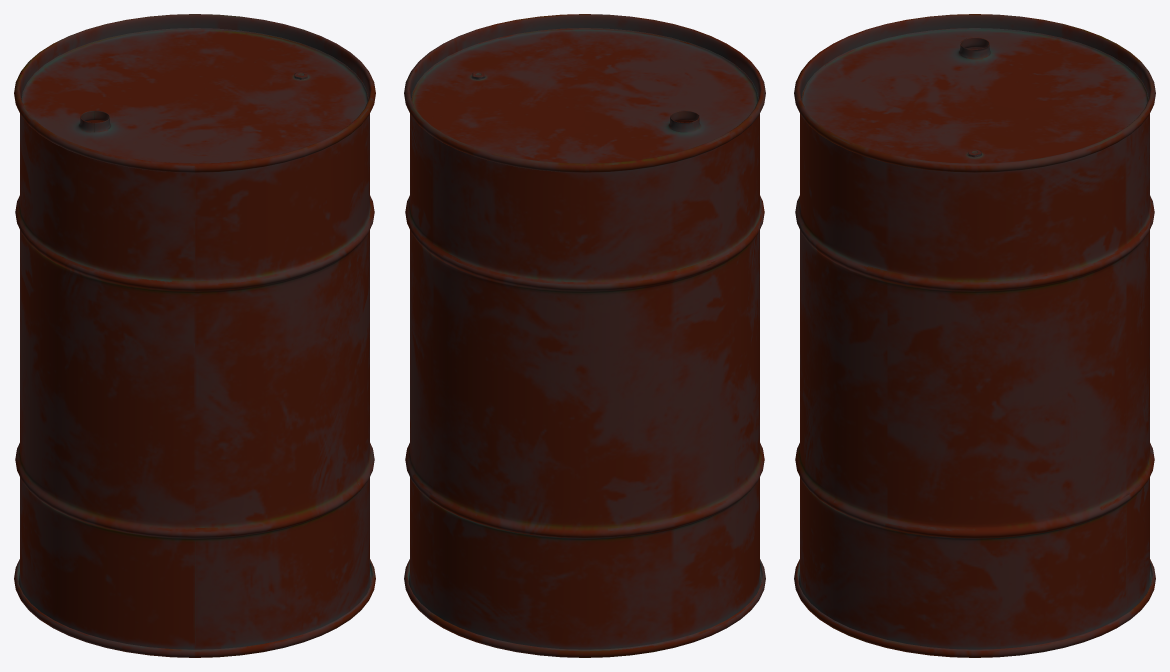
File: oil_barrel_2.glb
3 views of the same model, side by side, from view 1: azimuth 30°, elevation 25°; view 2: azimuth 150°, elevation 25°; view 3: azimuth 270°, elevation 25° (orthographic).
Visible parts, largest first — view 1: Barril; view 2: Barril; view 3: Barril.
Boxes of the visible parts, x1,y1,x2,y2 form: Barril: (14, 14, 375, 657); Barril: (404, 14, 765, 657); Barril: (794, 14, 1155, 657).
Size of the model in its own units: 0.9062 by 1.36 by 0.9062.
2 materials, 2 textured.
